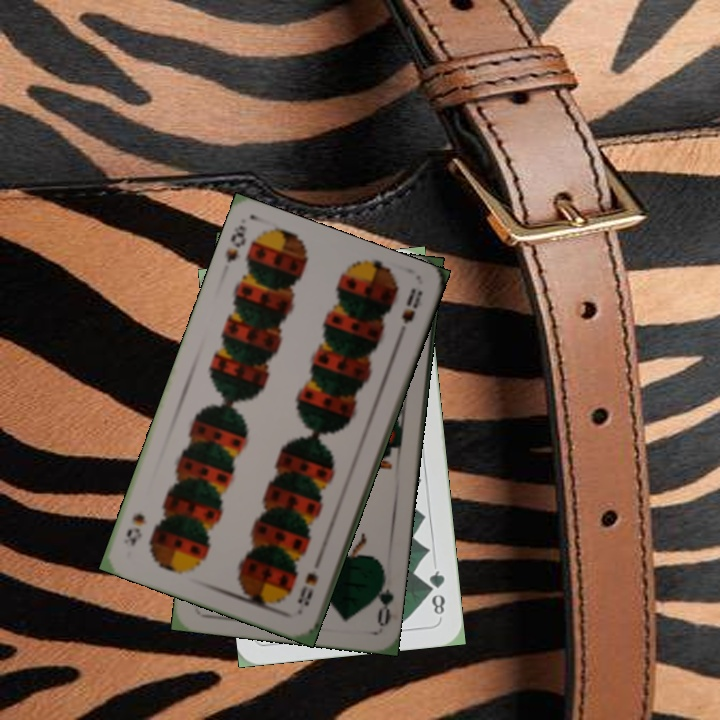G8: (424, 566, 448, 618)
GO: (368, 568, 396, 628)
S8: (221, 221, 250, 266), (293, 567, 321, 609)
